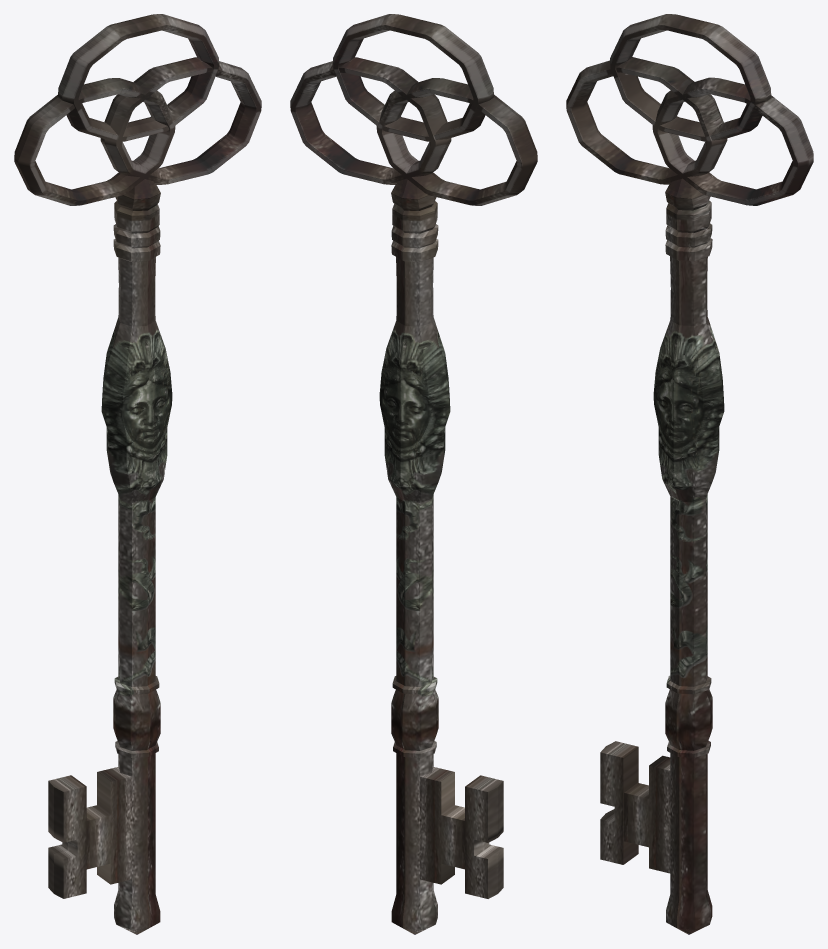
Rendered from PAST-Key3.fbx.
The picture shows the model from 3 angles, left to right: view 1: azimuth 30°, elevation 25°; view 2: azimuth 150°, elevation 25°; view 3: azimuth 330°, elevation 25°; orthographic projection.
Visible parts, largest first — view 1: Key3; view 2: Key3; view 3: Key3.
Part boxes in pixels (left/top/right/bottom): Key3: left=14, top=14, right=261, bottom=934; Key3: left=290, top=14, right=537, bottom=934; Key3: left=566, top=14, right=813, bottom=934.
Bounding box in the file's own units: 1.88 × 6.75 × 0.3942.
Materials: 1 (1 with a texture image).
